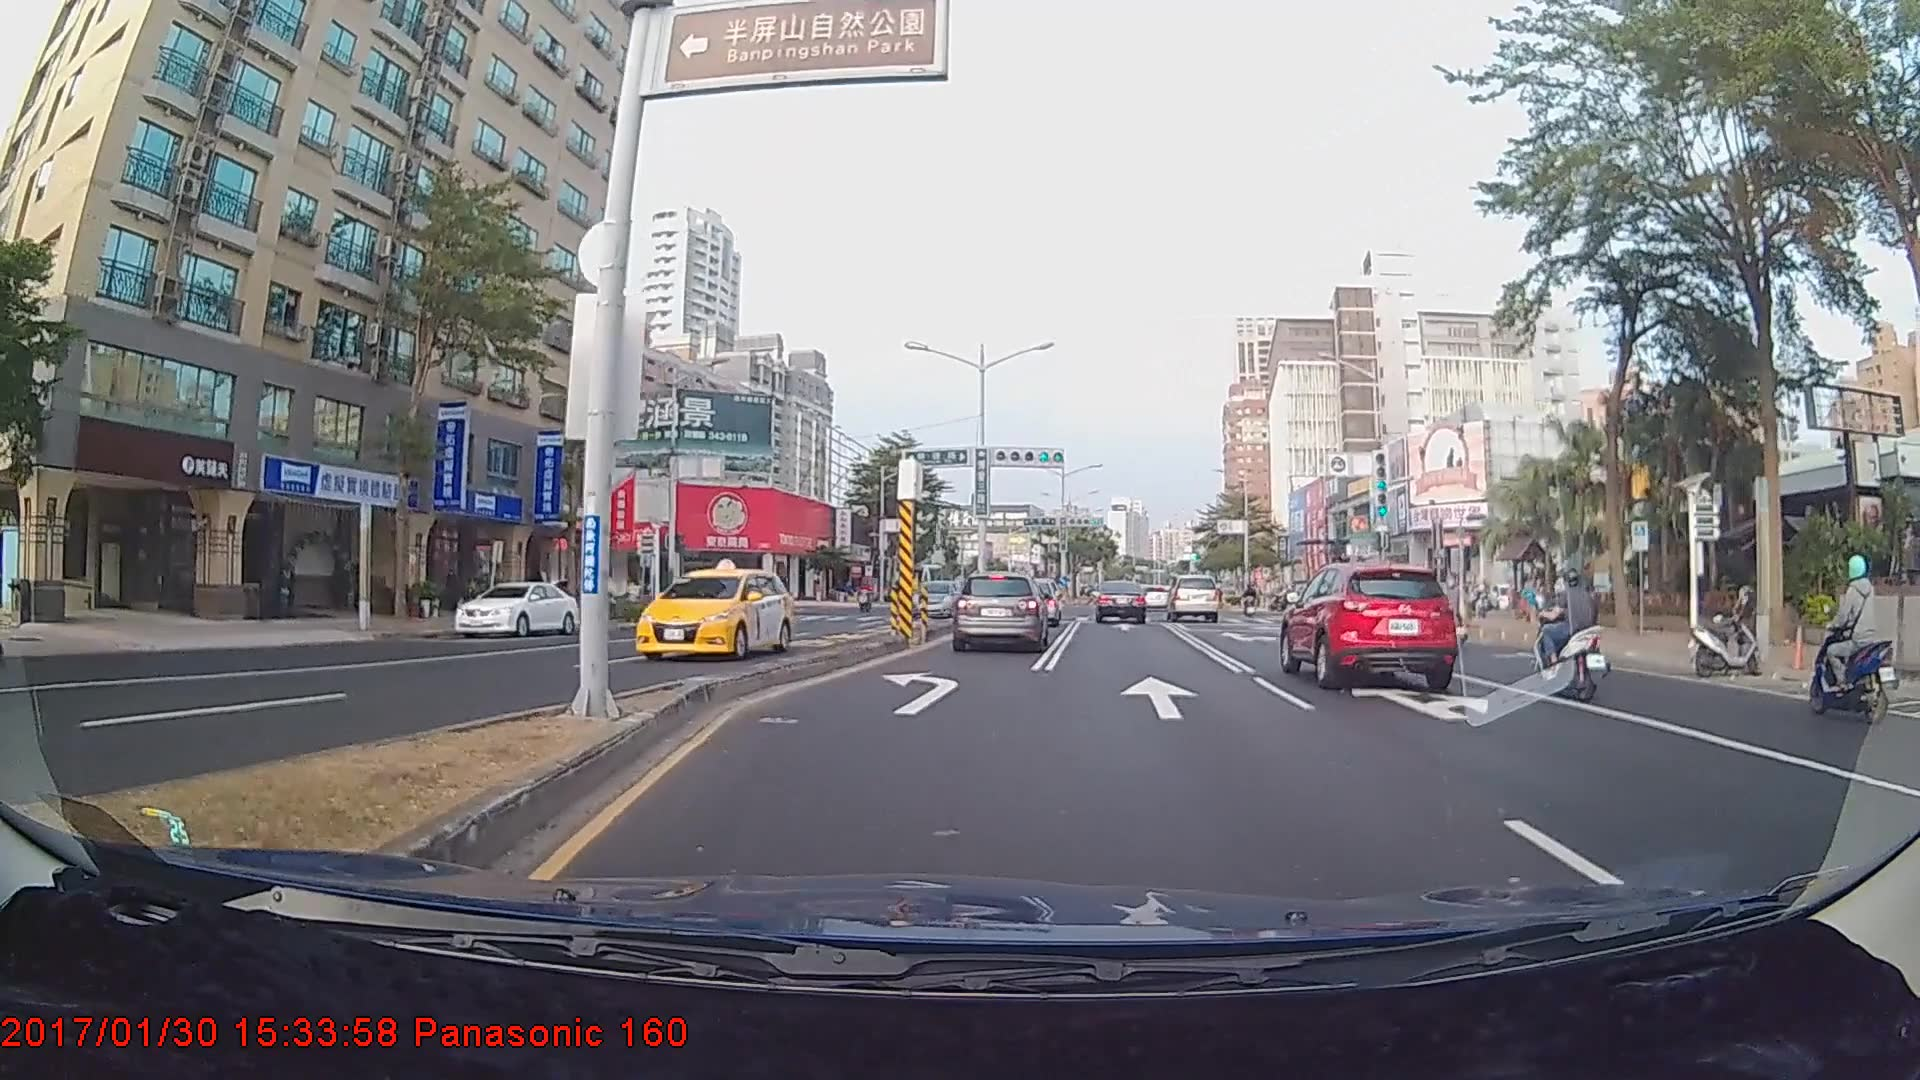rider: (1810, 552, 1901, 735), (1526, 564, 1613, 701)
vehicle: (1280, 557, 1459, 690), (634, 566, 794, 660), (951, 570, 1048, 652), (455, 579, 577, 640), (1165, 575, 1220, 623), (1093, 579, 1145, 625), (909, 579, 962, 616)
